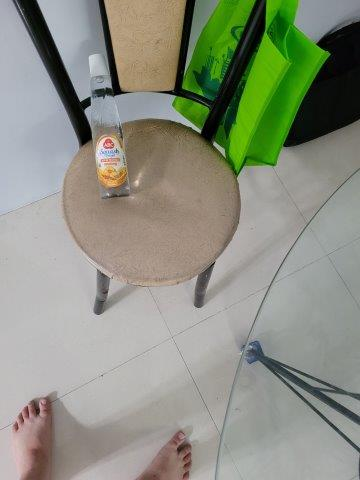botolkaca: (89, 56, 133, 198)
